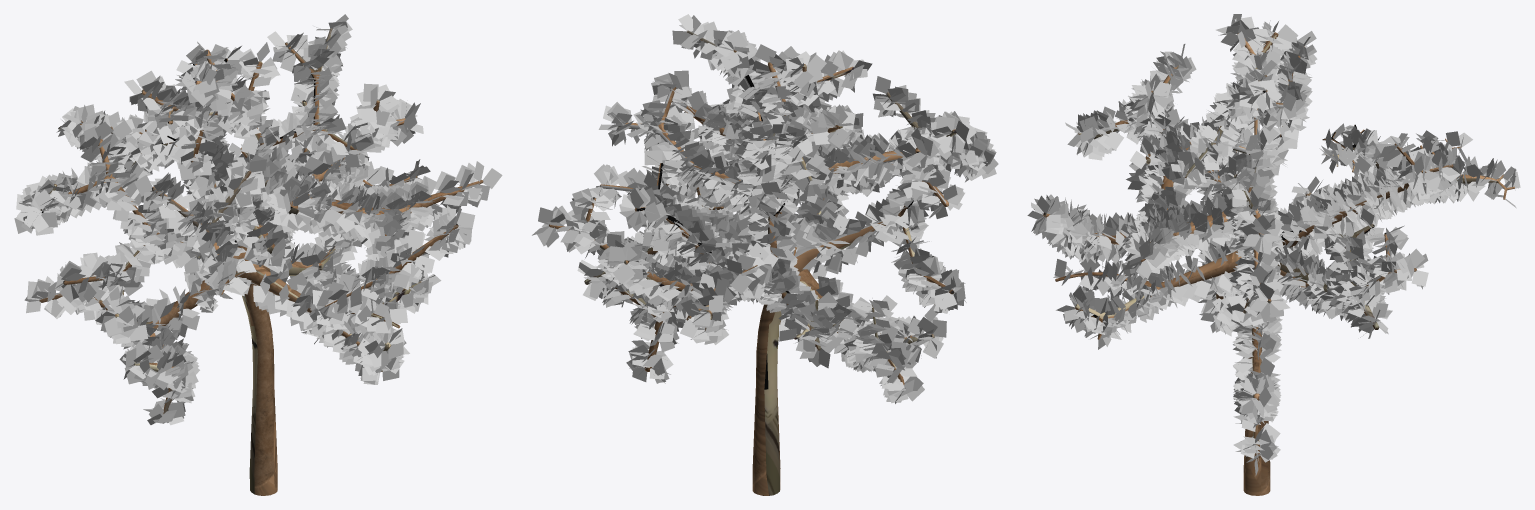
File: derevo2.fbx
3 views of the same model, side by side, from view 1: azimuth 30°, elevation 25°; view 2: azimuth 150°, elevation 25°; view 3: azimuth 270°, elevation 25° (orthographic). The views are drawn at different scales.
Visible parts, largest first — view 1: free-png.ru-292.5016, Plane.001; view 2: free-png.ru-292.5016, Plane.001; view 3: free-png.ru-292.5016, Plane.001.
Boxes of the visible parts, box(x1,y1,x2,y2) form: free-png.ru-292.5016: box(14, 14, 502, 425); Plane.001: box(39, 28, 483, 495); free-png.ru-292.5016: box(532, 14, 998, 403); Plane.001: box(549, 30, 956, 495); free-png.ru-292.5016: box(1027, 14, 1520, 475); Plane.001: box(1043, 32, 1514, 495).
Size of the model in its own units: 2745 by 3180 by 3192.
